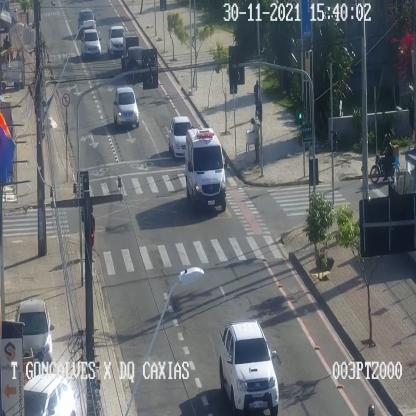car: (219, 322, 278, 416), (184, 126, 226, 214), (16, 302, 54, 364), (26, 374, 78, 416), (113, 88, 140, 128), (169, 116, 192, 161), (81, 30, 102, 59), (108, 26, 126, 54), (78, 8, 96, 30)
motorbike: (370, 133, 400, 185)
person: (250, 118, 260, 166), (253, 80, 261, 115)
